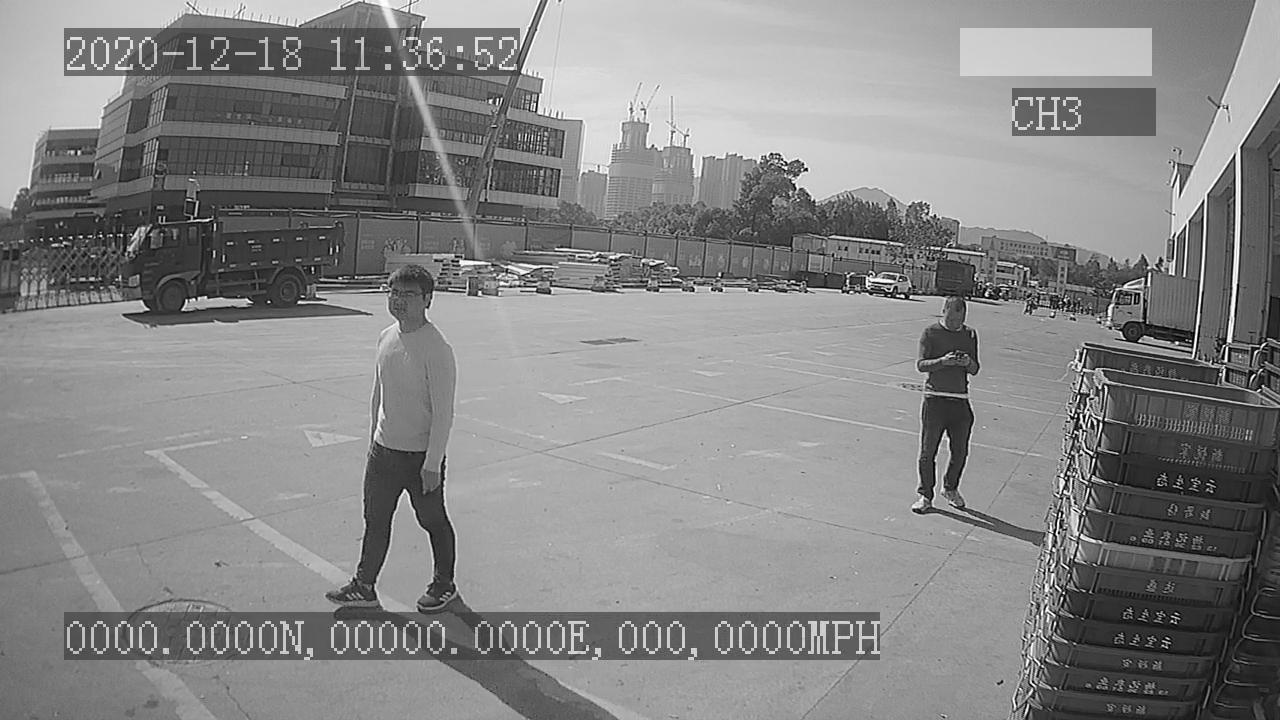person: (323, 261, 475, 608), (909, 293, 989, 523)
